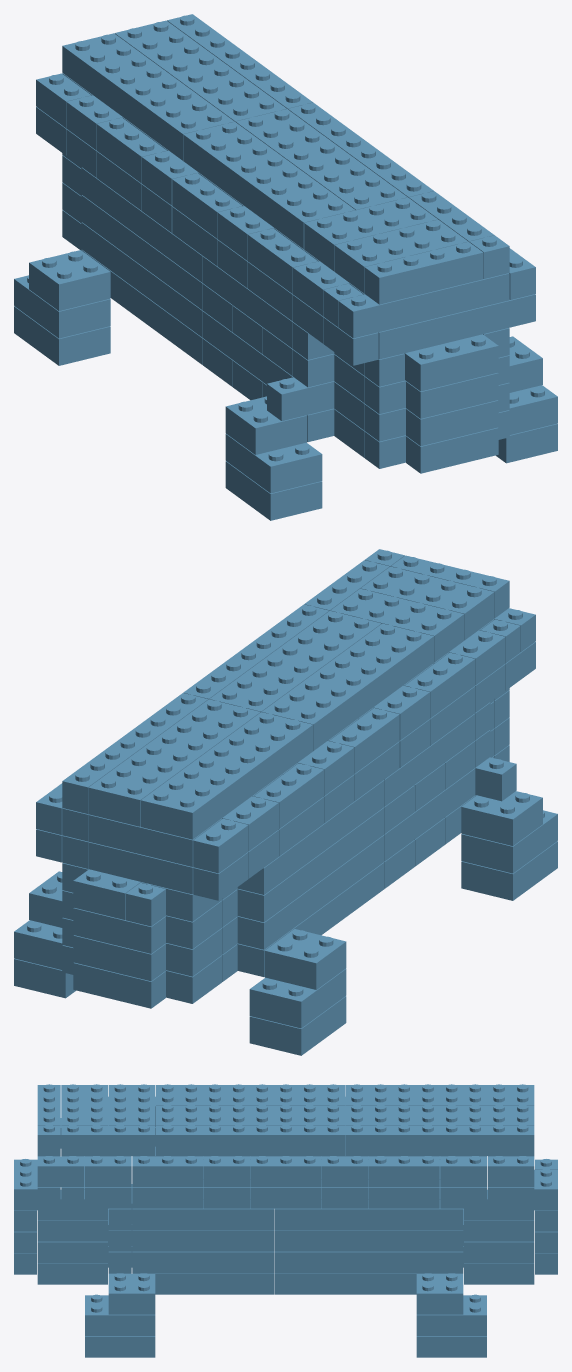
File: 113_bus_L3.glb
3 renders of one model, top to bottom at view 1: azimuth 30°, elevation 25°; view 2: azimuth 150°, elevation 25°; view 3: azimuth 270°, elevation 25°, orthographic. The views are drawn at different scales.
Size of the model in its own units: 10.98 by 9.13 by 22.98.
